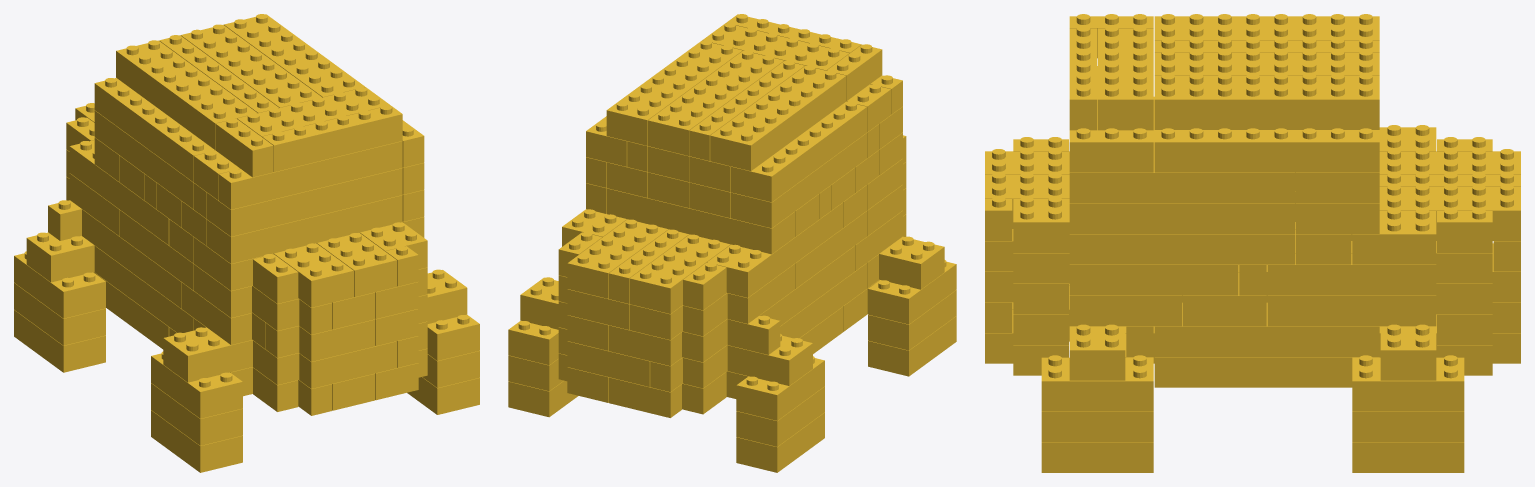
The picture shows the model from 3 angles, left to right: view 1: azimuth 30°, elevation 25°; view 2: azimuth 150°, elevation 25°; view 3: azimuth 270°, elevation 25°; orthographic projection. The views are drawn at different scales.
Visible parts, largest first — view 1: car_L5_P1_G; view 2: car_L5_P1_G; view 3: car_L5_P1_G.
Boxes of the visible parts, <box> form: car_L5_P1_G: <box>14,14,479,472</box>; car_L5_P1_G: <box>508,14,956,472</box>; car_L5_P1_G: <box>985,14,1520,472</box>.
Bounding box in the file's own units: 12.97 × 13.39 × 18.97.
